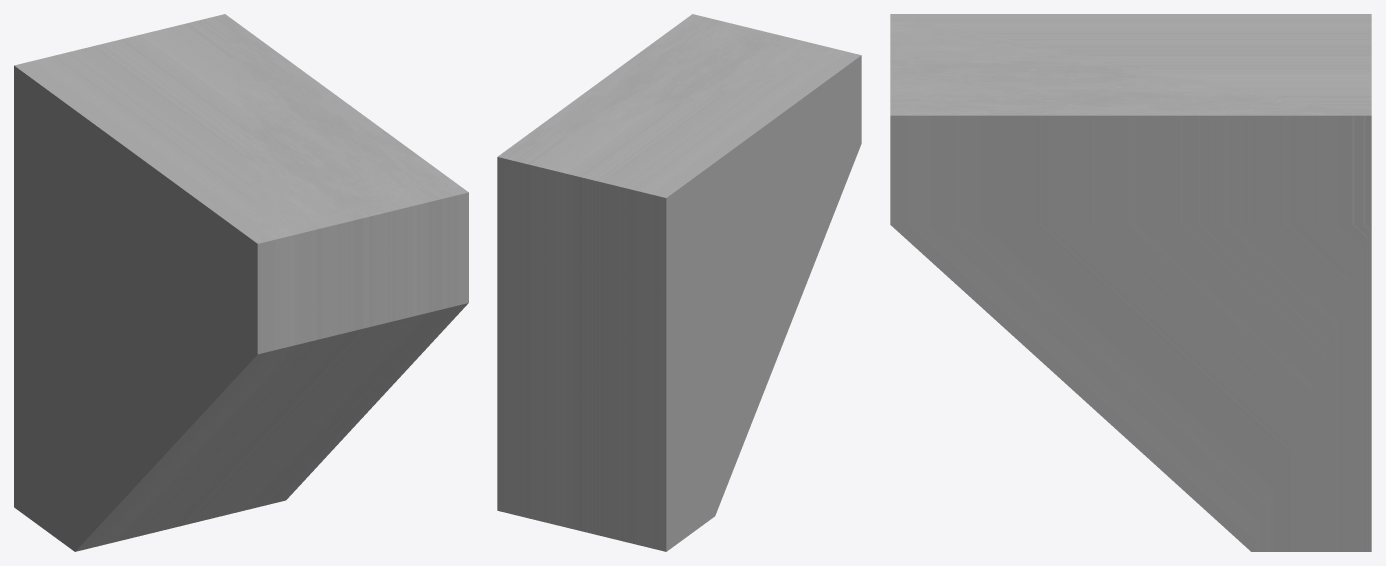
The model's file is downward_angled_50cm_endCap_3.glb.
The picture shows the model from 3 angles, left to right: view 1: azimuth 30°, elevation 25°; view 2: azimuth 150°, elevation 25°; view 3: azimuth 270°, elevation 25°; orthographic projection. The views are drawn at different scales.
Visible parts, largest first — view 1: downward.angled.50cm.endCap.3; view 2: downward.angled.50cm.endCap.3; view 3: downward.angled.50cm.endCap.3.
Boxes of the visible parts, x1,y1,x2,y2 form: downward.angled.50cm.endCap.3: (14,14,468,551); downward.angled.50cm.endCap.3: (497,14,861,551); downward.angled.50cm.endCap.3: (890,14,1371,551).
Size of the model in its own units: 0.25 by 0.5 by 0.5.
1 material, 1 textured.
